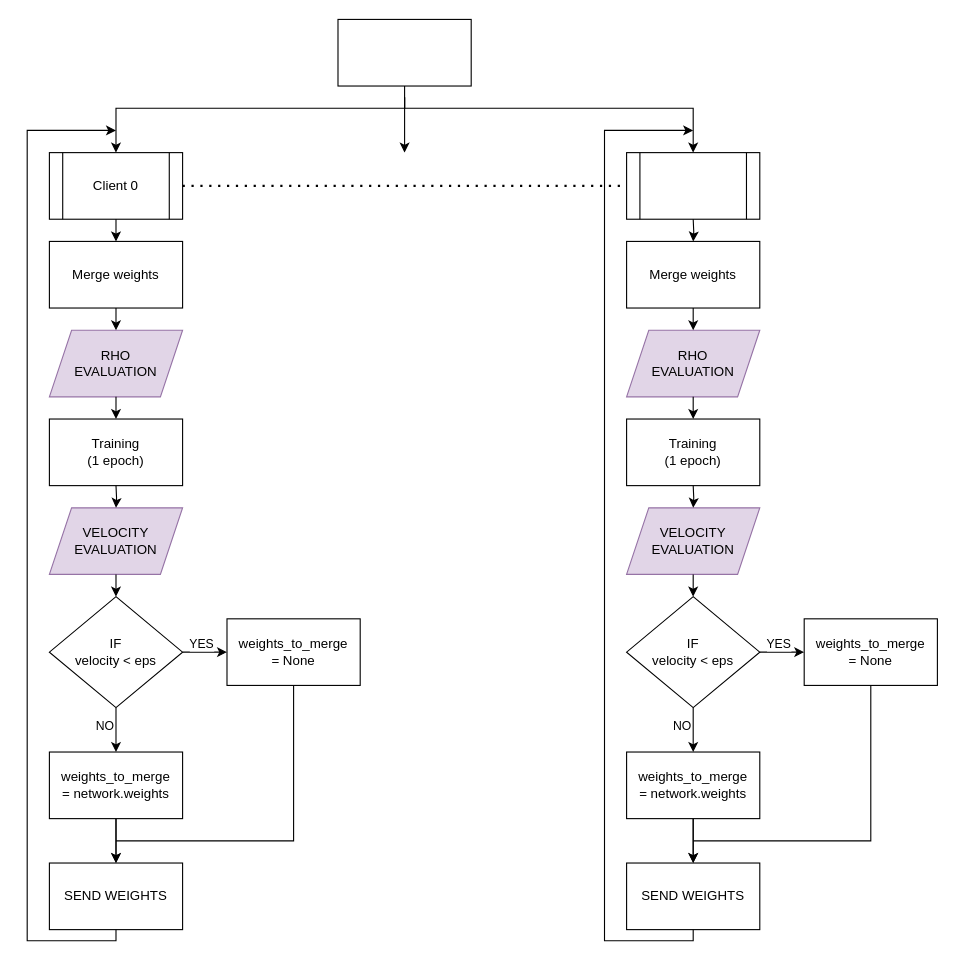
Some shapes in this 957 by 969 pixel diagram are drawn without their labels. Each missing label, with the box of its shape:
Client n: (625, 152, 760, 219)
START: (337, 18, 471, 86)
